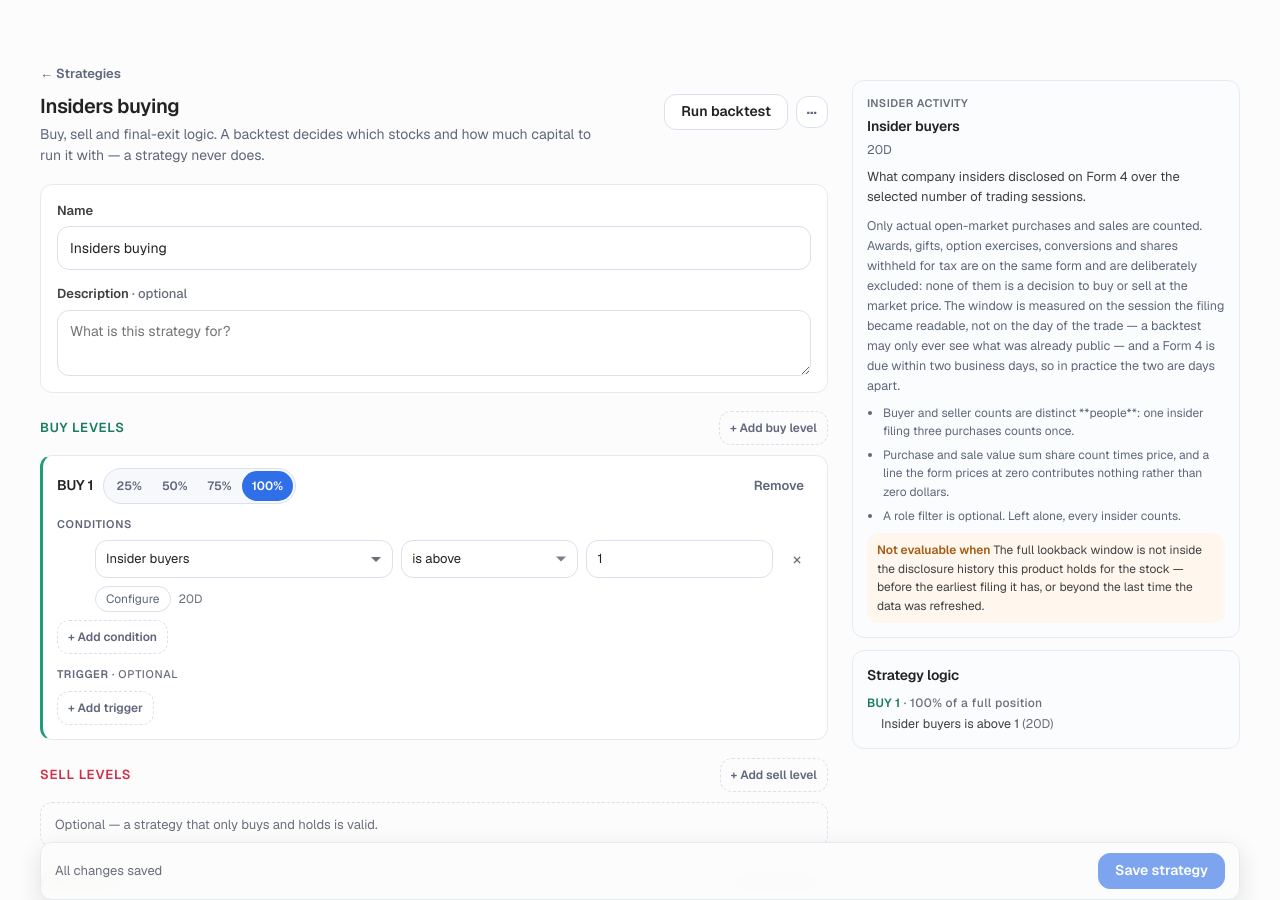
the Metric picker › keeps the metric selected after a lookback change
expect the list item with test id "predicate-row" is shown: met, box left=57, top=540, right=813, bottom=612
Click the button with test id "operand-config-button".
click(133, 599)  # box left=95, top=586, right=171, bottom=612
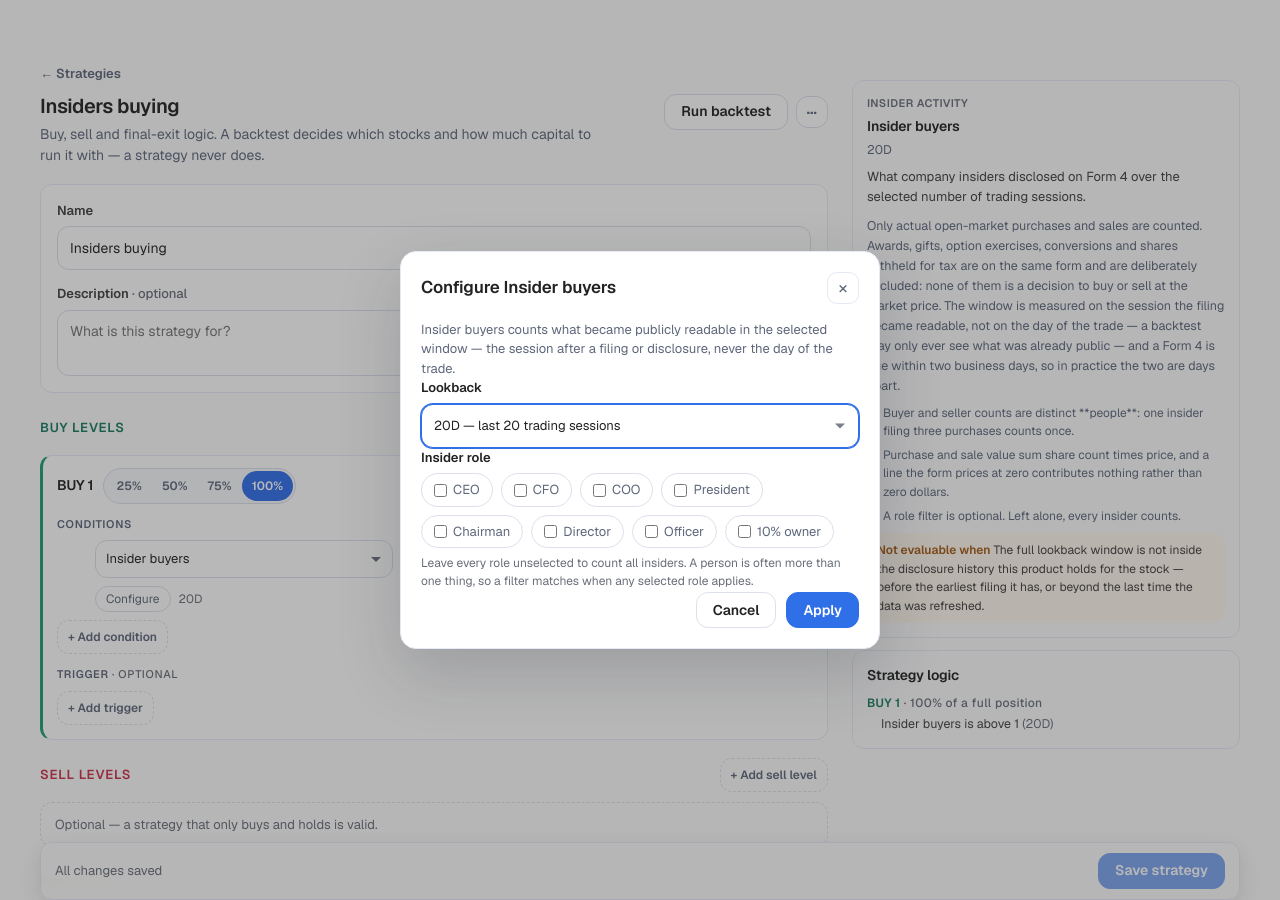
Select "120D — last 120 trading sessions" in the dropdown named "Lookback" at (640, 426), box left=421, top=404, right=859, bottom=448
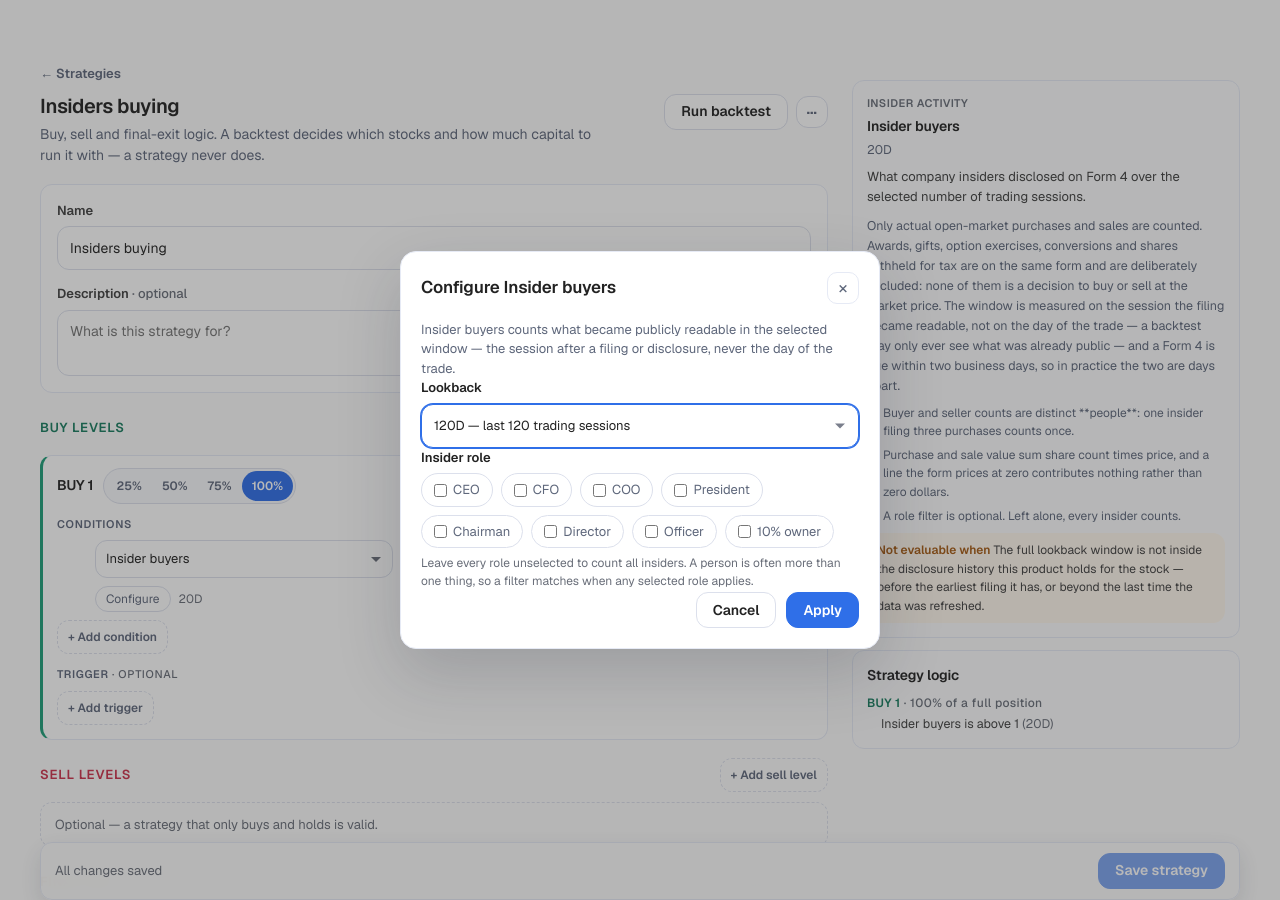
Click the button with test id "alternative-data-config-apply".
click(823, 610)  # box left=786, top=592, right=859, bottom=628
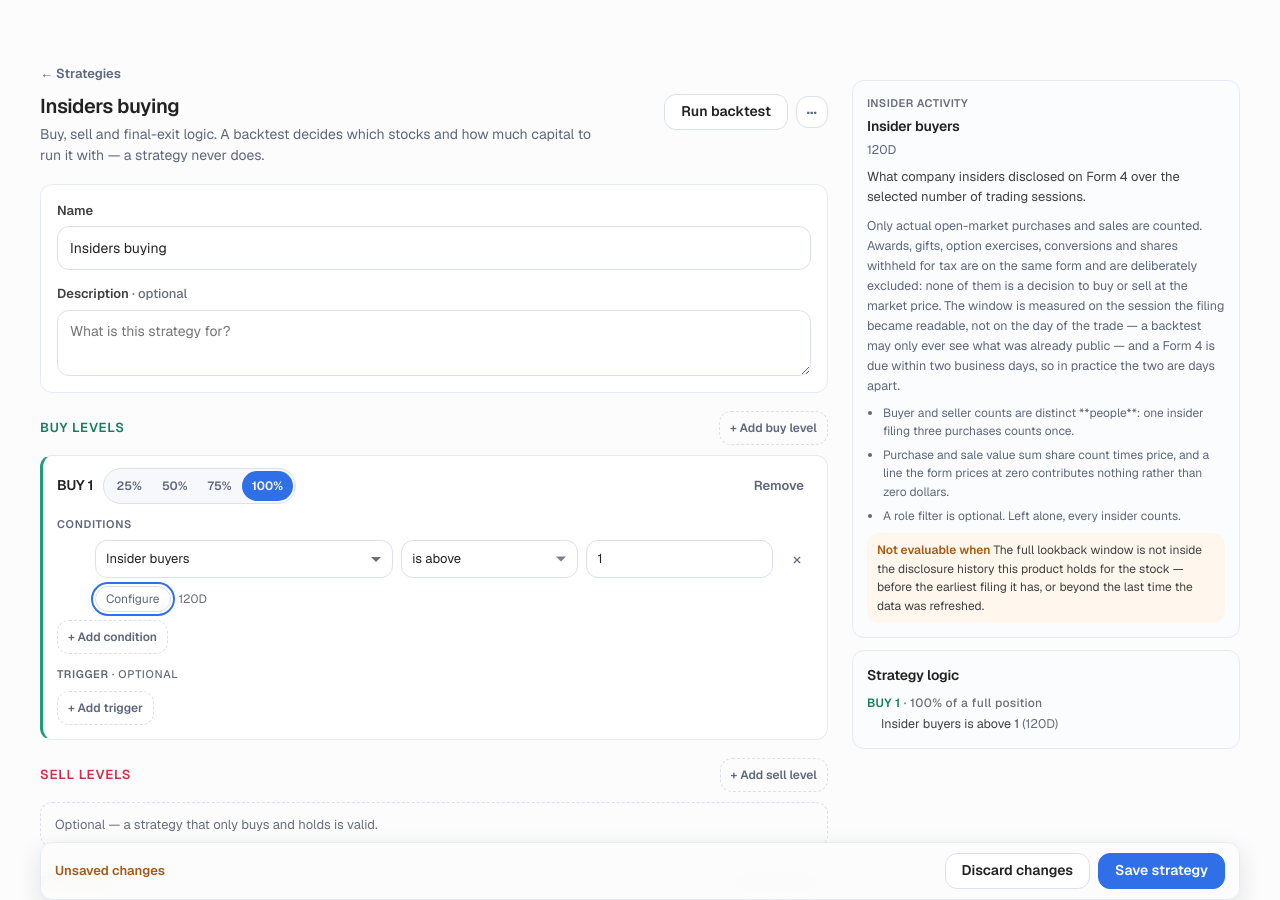
expect the text "Insider buyers" is shown: met, box left=106, top=550, right=189, bottom=567
expect the dialog with test id "alternative-data-config" is gone: met
expect the text with test id "operand-configuration-summary" reads "120D": met, box left=179, top=591, right=207, bottom=607
